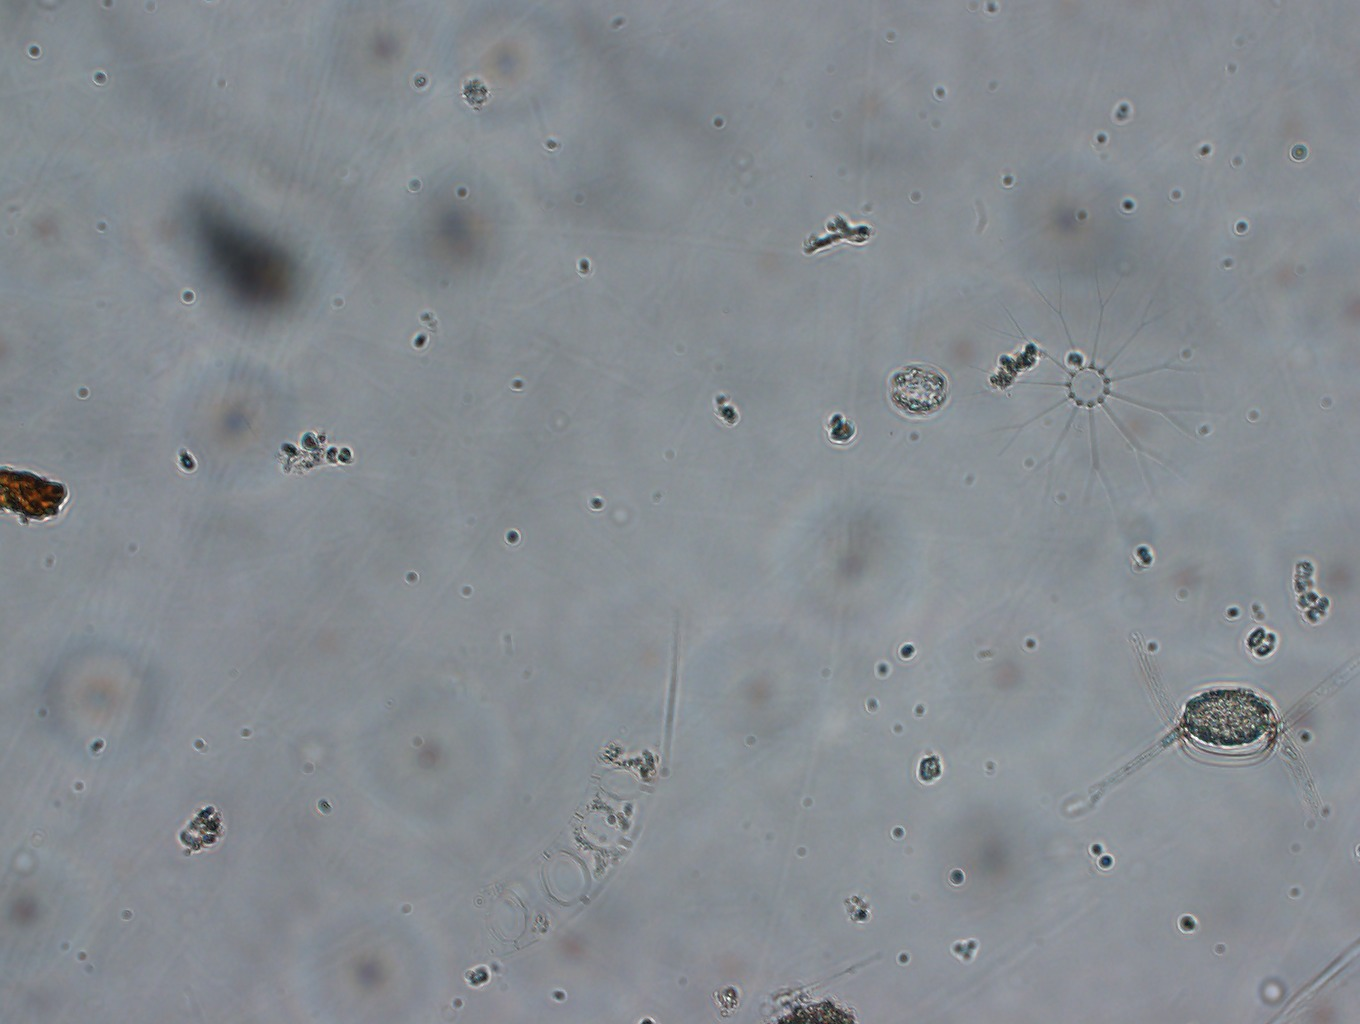bacteriastrum: (964, 269, 1234, 529)
chaetoceros: (1060, 601, 1358, 858)
eucampia: (453, 714, 674, 979)
